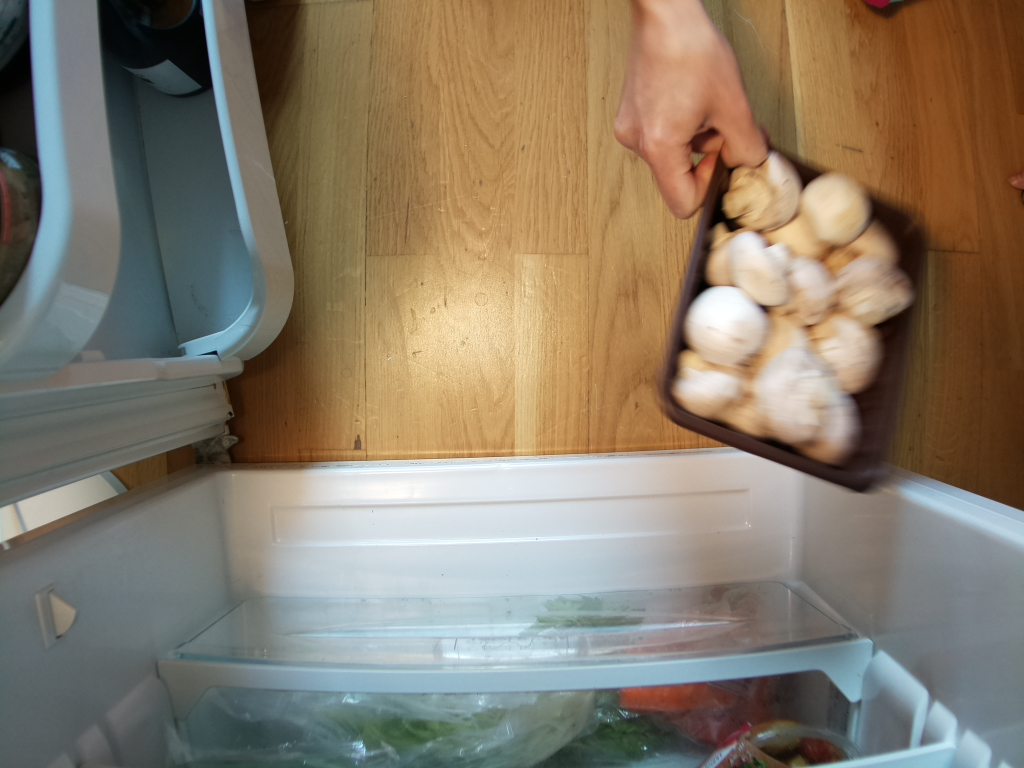mushrooms: (657, 132, 934, 507)
